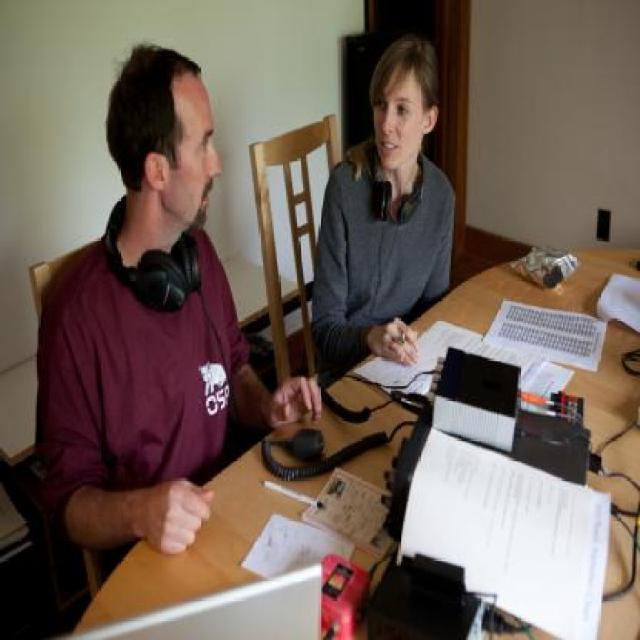earphone: (82, 190, 206, 295), (365, 135, 435, 233)
